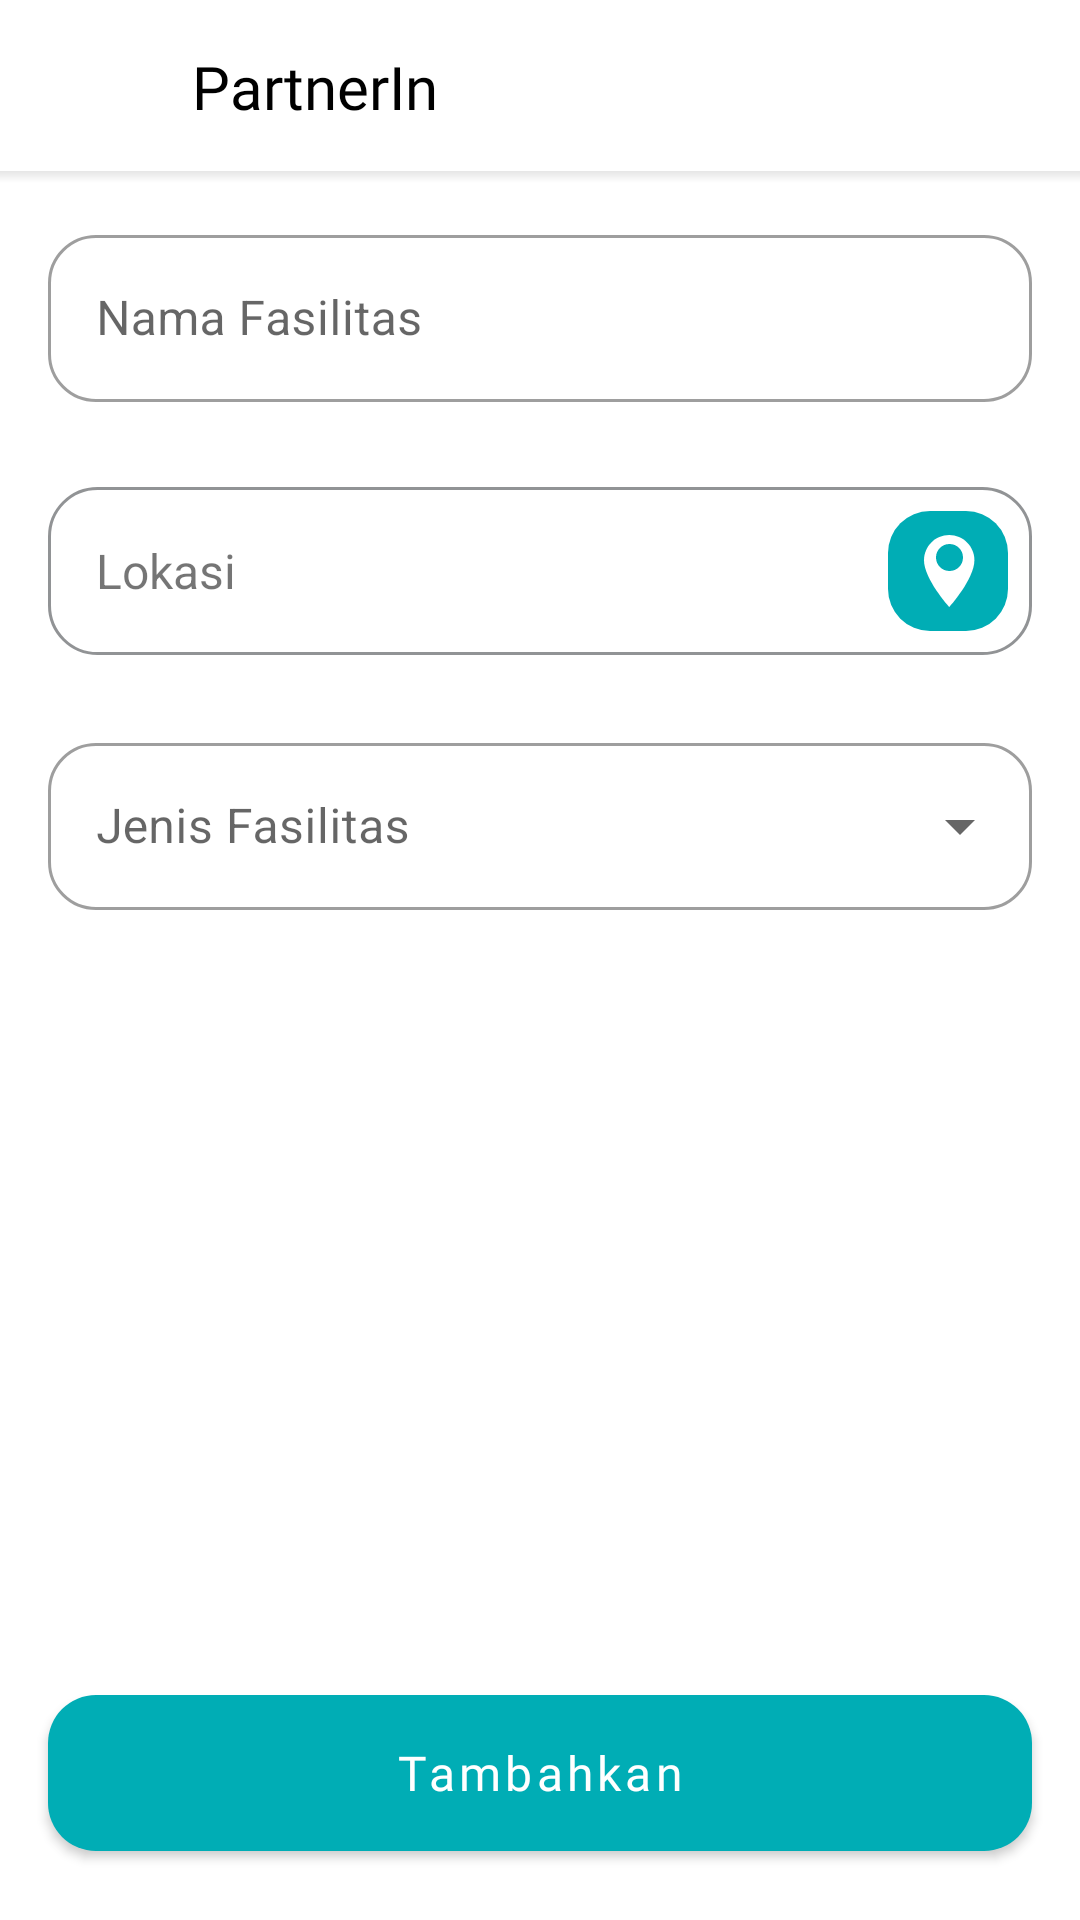

Where icons sit on this 1080px x 1920px app screen, as bbox=[x1, y1, x2, y2]:
location: bbox=[888, 511, 1008, 631]
